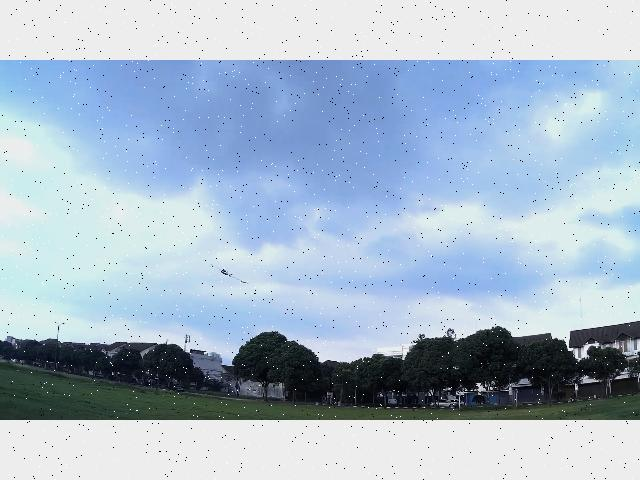Anti-Drone: (210, 264, 248, 284)
